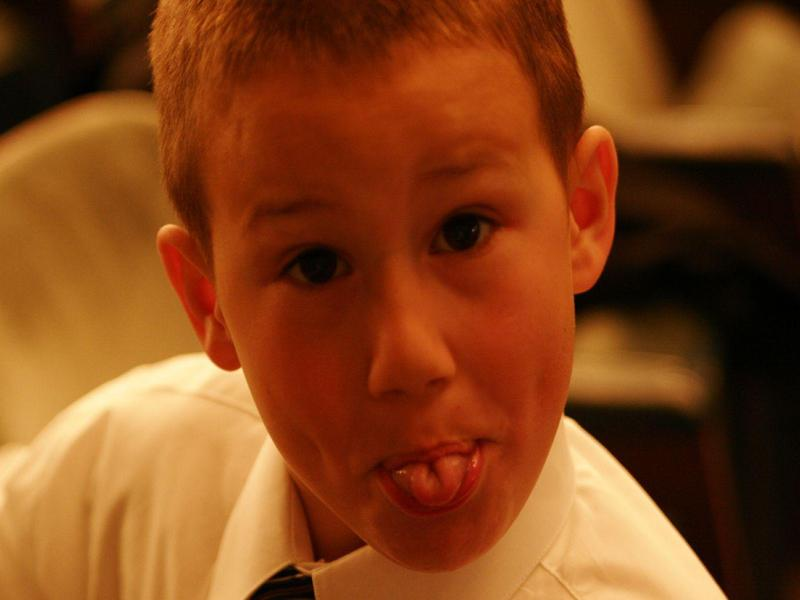person: (24, 4, 728, 600)
